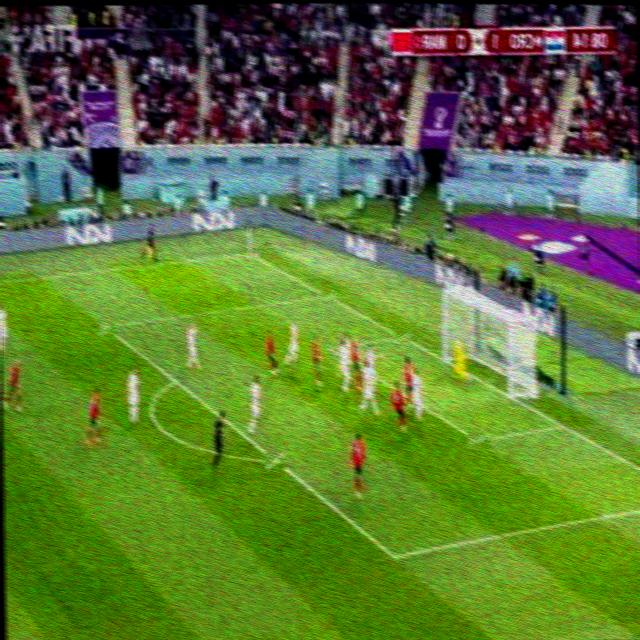bigarea_bottom_inner: (383, 540, 405, 567)
bigarea_top_inner: (97, 315, 114, 335)
bigarea_top_outter: (318, 284, 334, 303)
bottom_arc_area_intersection: (265, 447, 285, 470)
corner: (240, 246, 258, 258)
smallarea_bottom_inner: (466, 425, 488, 452)
smallarea_bottom_outter: (553, 413, 573, 437)
smallarea_top_inner: (322, 336, 338, 358)
smallarea_top_outter: (394, 324, 411, 346)
top_arc_area_intersection: (168, 370, 185, 388)
